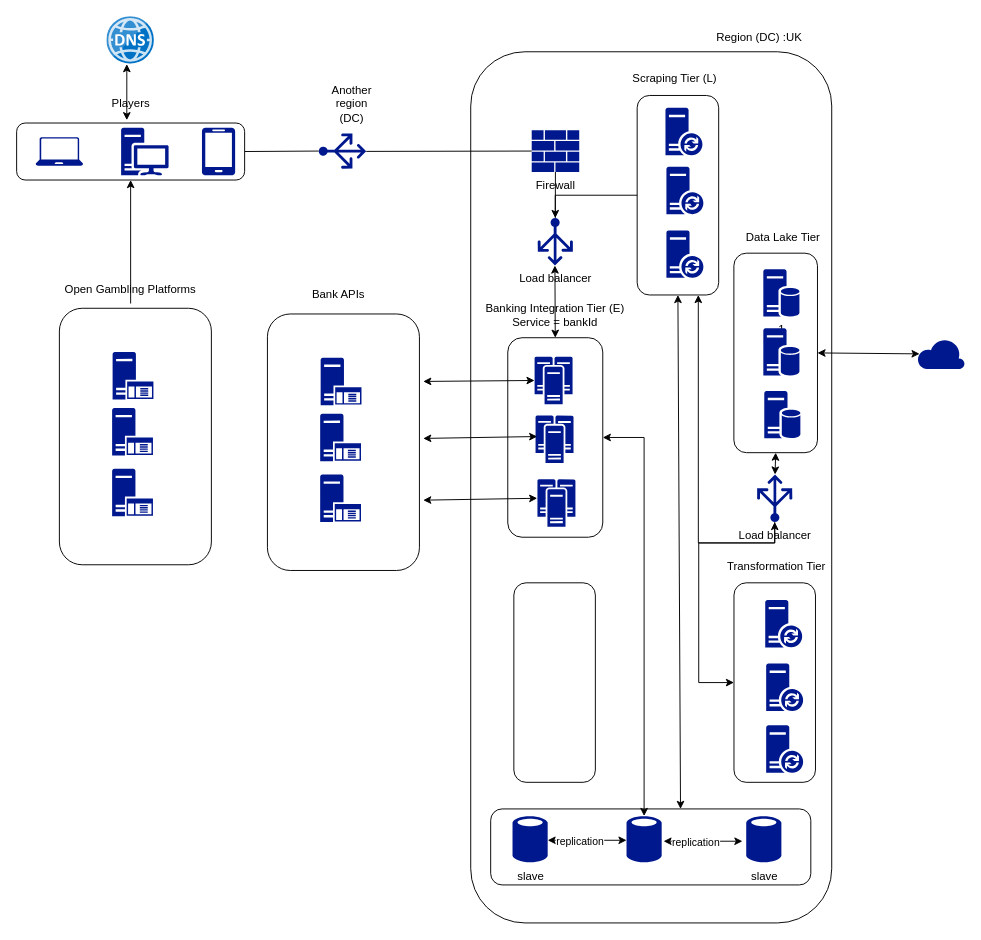
Image size: 981x940. Some labels were removed from this diagram. The centre of each missing label's shape, as x and y in pixels:
HDFS: the point at 940,353
Load balancer (geo): the point at 342,150
master: the point at 643,839
